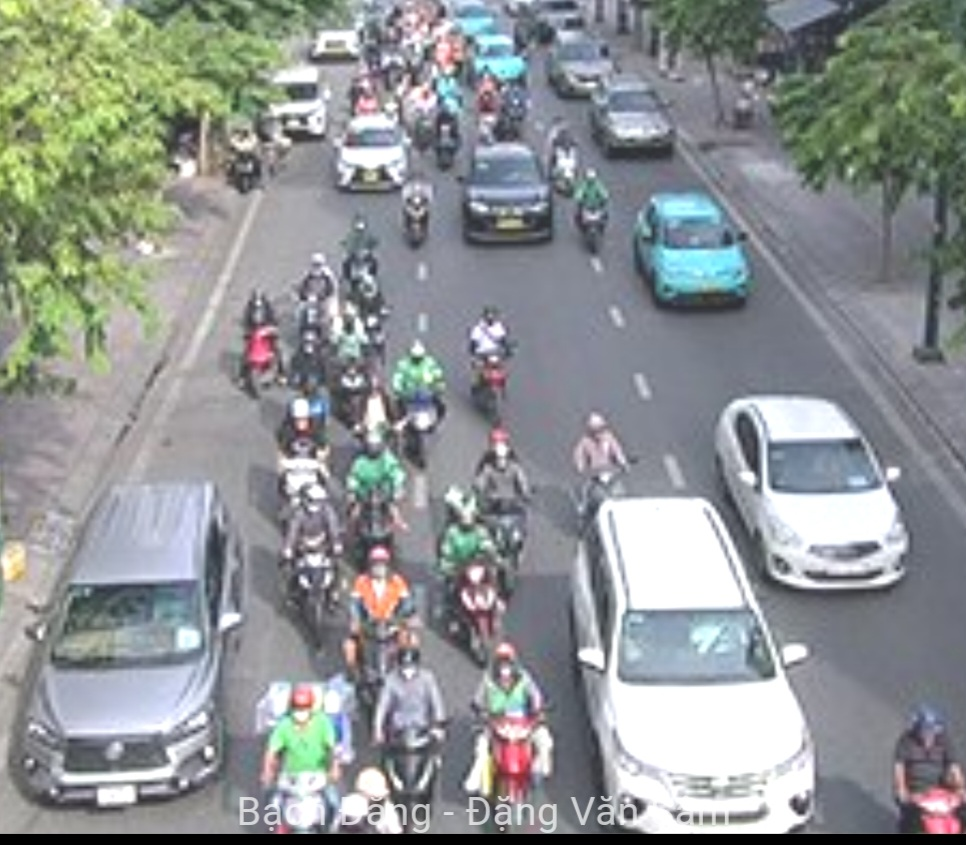car: (568, 498, 812, 833), (21, 491, 235, 805), (724, 376, 921, 595), (631, 193, 757, 310), (458, 143, 557, 244), (334, 108, 419, 198), (594, 84, 681, 158), (266, 64, 329, 143), (545, 29, 617, 98)
